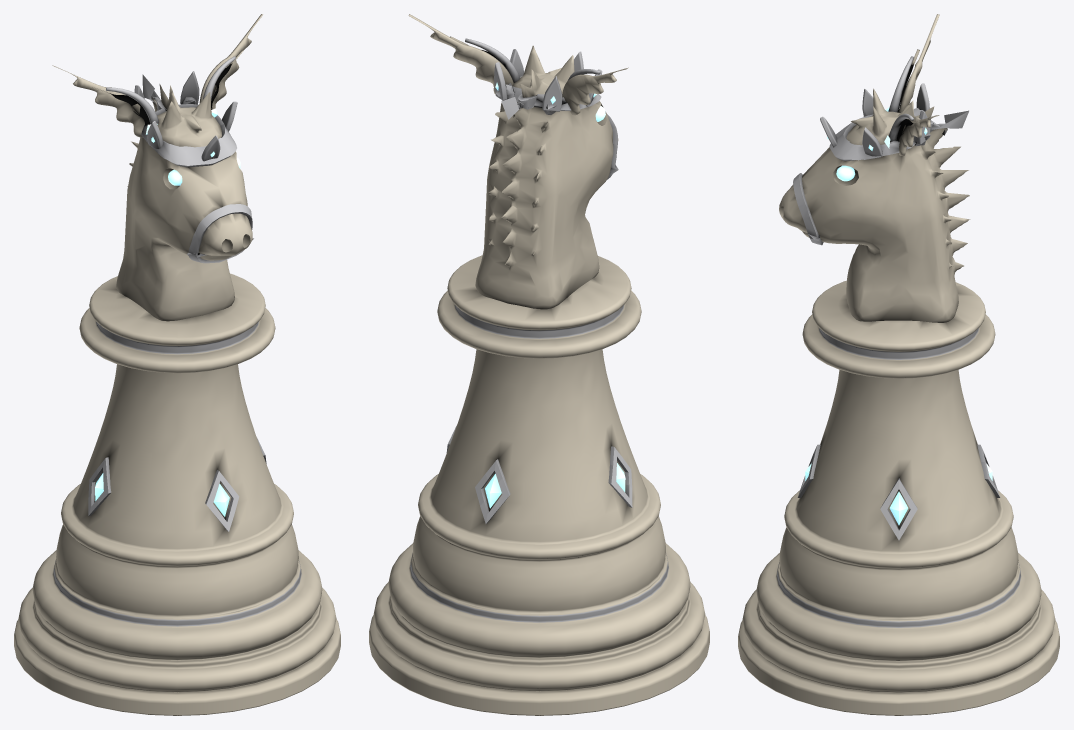
Rendered from amazon.glb.
3 views of the same model, side by side, from view 1: azimuth 30°, elevation 25°; view 2: azimuth 150°, elevation 25°; view 3: azimuth 270°, elevation 25° (orthographic). The views are drawn at different scales.
Visible parts, largest first — view 1: amazon; view 2: amazon; view 3: amazon.
Boxes of the visible parts, bbox=[...] form: amazon: bbox=[14, 14, 340, 715]; amazon: bbox=[369, 14, 709, 715]; amazon: bbox=[738, 14, 1059, 715].
Size of the model in its own units: 0.74 by 1.48 by 0.74.
